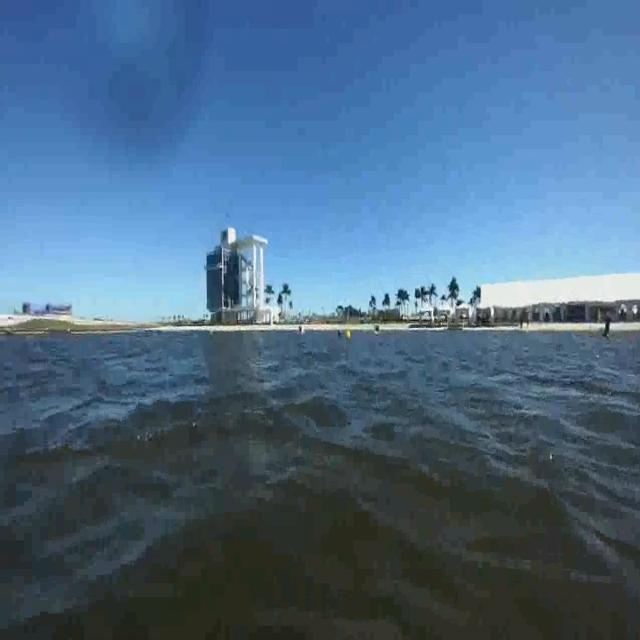green-column-buoy: (601, 307, 614, 341)
yellow-buoy: (346, 328, 353, 339)
